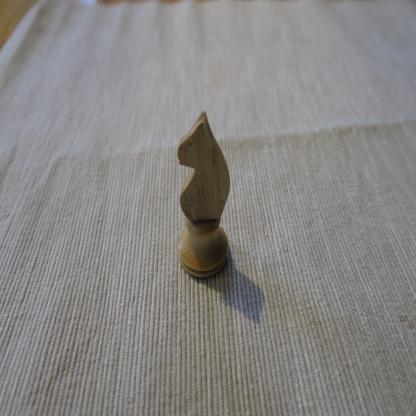white-knight: (177, 110, 231, 279)
